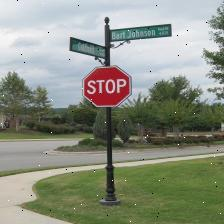Stop: (83, 66, 133, 108)
